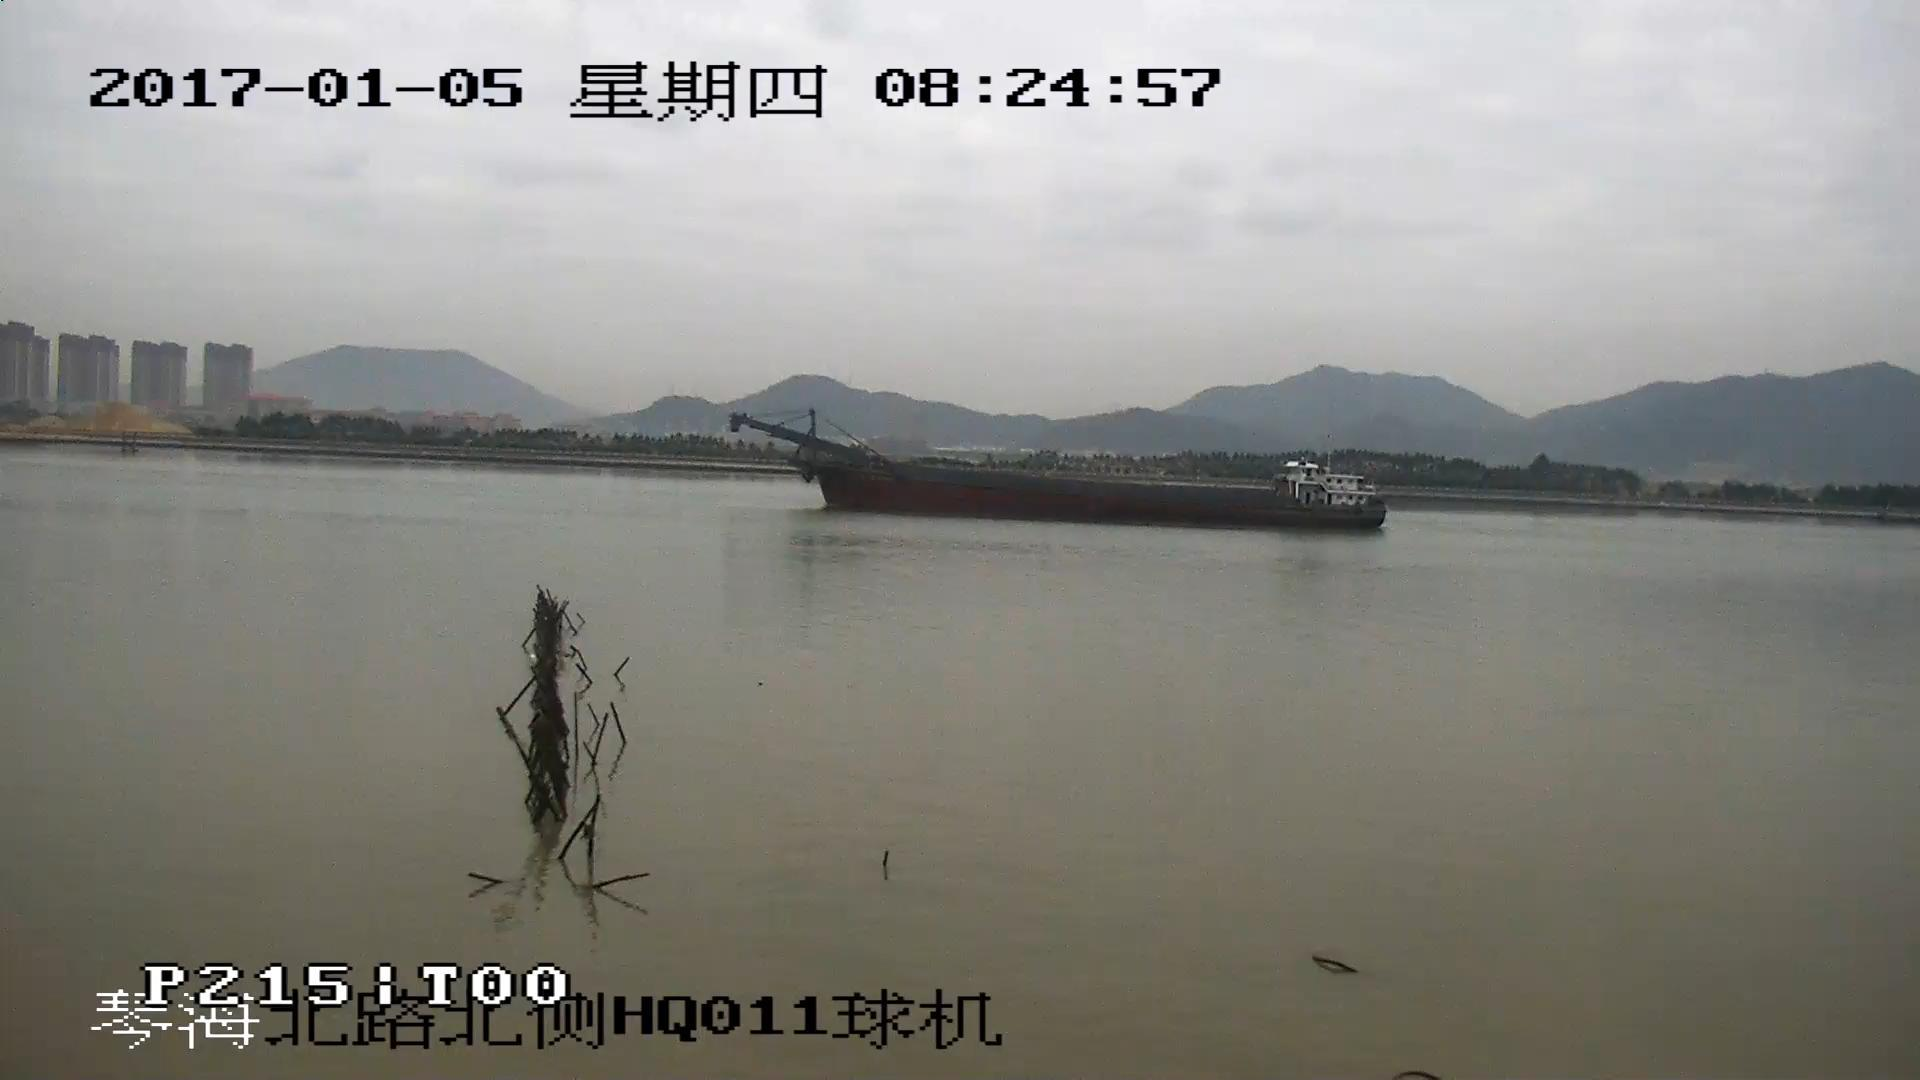Ship: (735, 409, 1389, 530)
